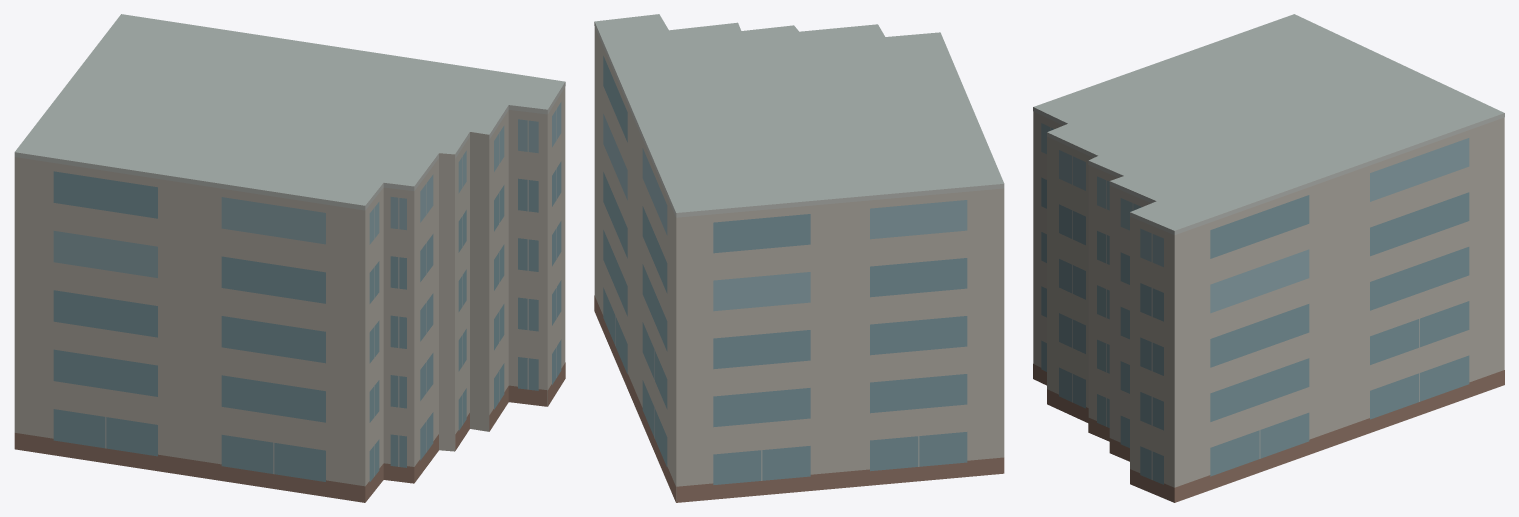
Rendered from survey-upis-32823364.glb.
The picture shows the model from 3 angles, left to right: view 1: azimuth 30°, elevation 25°; view 2: azimuth 150°, elevation 25°; view 3: azimuth 270°, elevation 25°; orthographic projection. The views are drawn at different scales.
Parts seen in each view (by area): view 1: survey-upis-32823364.tmp; view 2: survey-upis-32823364.tmp; view 3: survey-upis-32823364.tmp.
Part boxes in pixels (<box>): survey-upis-32823364.tmp: <box>14,14,565,502</box>; survey-upis-32823364.tmp: <box>594,14,1004,502</box>; survey-upis-32823364.tmp: <box>1033,14,1504,502</box>.
Size of the model in its own units: 26.09 by 15.25 by 23.97.
